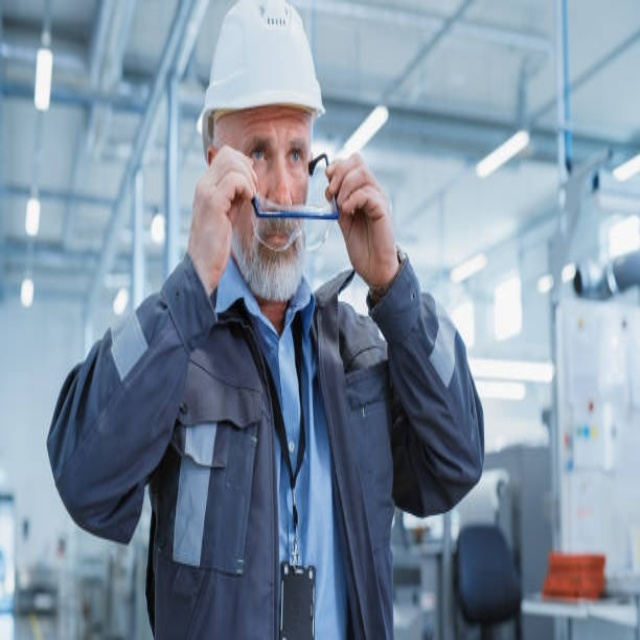Sin_gafas: (249, 125, 306, 180)
Sin_guantes: (325, 138, 398, 281), (192, 141, 258, 251)
Sin_mascara: (249, 220, 301, 287)
